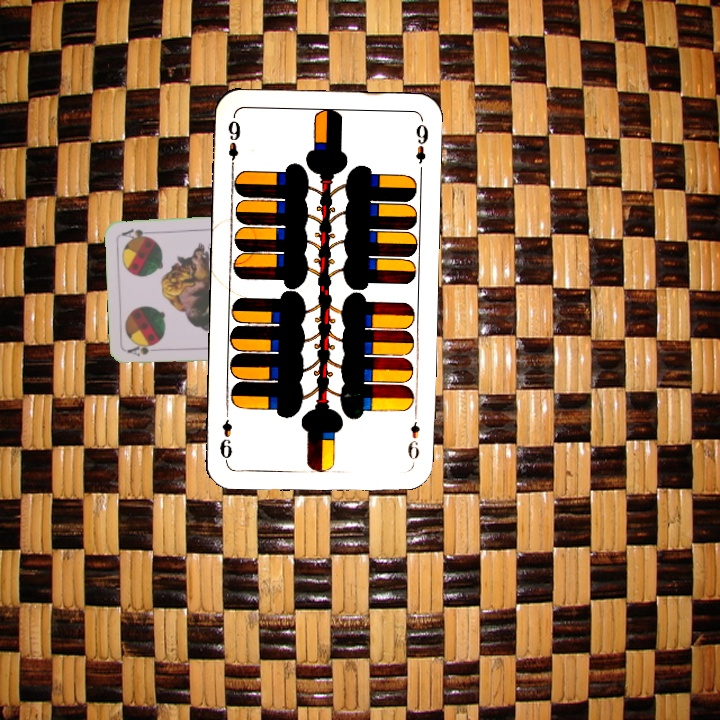E9: (224, 116, 243, 172), (404, 418, 422, 467)
SA: (124, 341, 165, 359)
